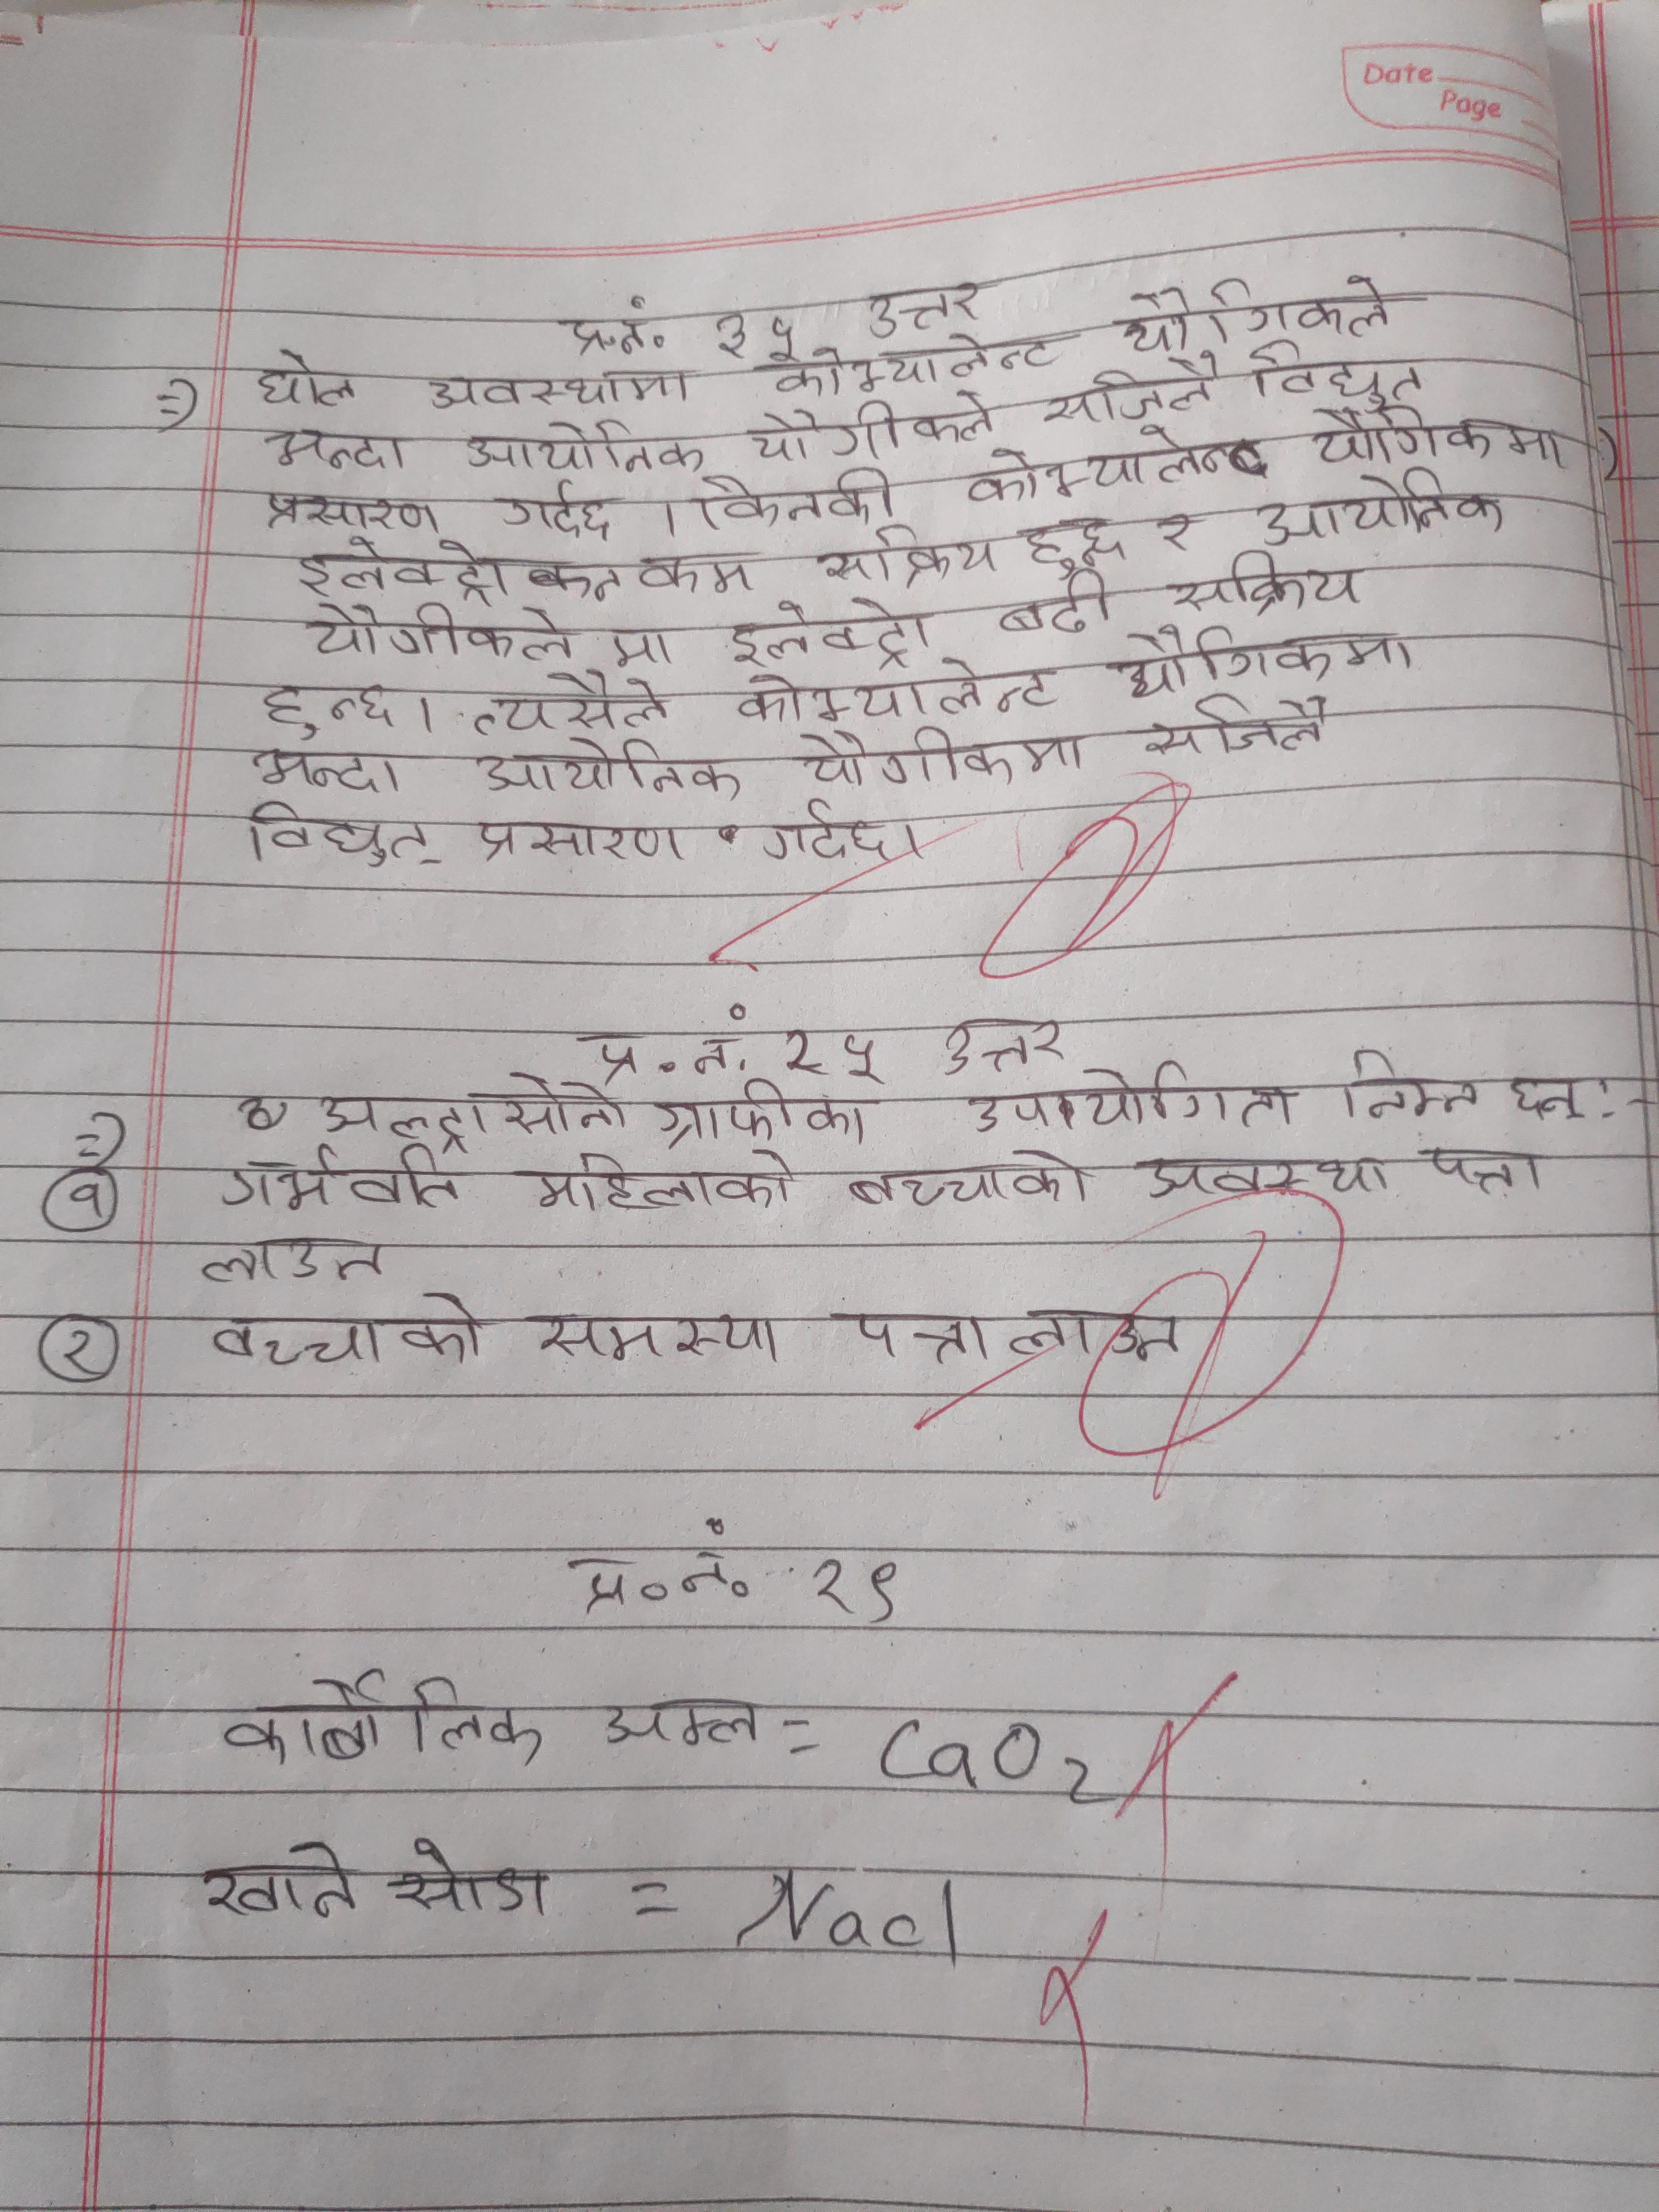text: (218, 1669, 552, 1773), (310, 1068, 634, 1153), (202, 1291, 497, 1381), (955, 421, 1274, 503), (1112, 270, 1417, 352), (1305, 390, 1568, 479), (953, 1064, 1305, 1130), (1105, 622, 1422, 695), (730, 657, 1080, 721), (291, 536, 622, 601), (284, 597, 586, 665), (774, 721, 1089, 786), (523, 1148, 807, 1217), (469, 737, 749, 806), (218, 1148, 465, 1226), (563, 1514, 758, 1611), (739, 392, 1000, 463), (1249, 474, 1518, 542), (453, 409, 708, 481), (535, 1299, 782, 1369), (186, 1832, 368, 1926), (762, 340, 1054, 395), (655, 1076, 871, 1151), (383, 1832, 561, 1923), (464, 665, 681, 738), (727, 592, 934, 669), (1131, 1151, 1405, 1209), (465, 810, 683, 878), (1171, 540, 1363, 617), (240, 805, 448, 874), (847, 1148, 1089, 1207), (199, 1221, 394, 1292), (687, 465, 904, 526), (1143, 690, 1328, 761), (418, 371, 708, 416), (1333, 1043, 1483, 1129), (1246, 336, 1432, 404), (1033, 357, 1213, 427), (1012, 1298, 1199, 1360), (596, 1686, 772, 1752), (810, 528, 1006, 587), (256, 479, 439, 542), (842, 1305, 1004, 1374), (235, 742, 415, 799), (587, 1012, 739, 1080), (758, 796, 897, 869), (931, 1014, 1082, 1076), (488, 474, 620, 545), (260, 413, 413, 474), (993, 571, 1115, 646), (254, 678, 392, 738), (1419, 1136, 1551, 1198), (246, 347, 364, 413), (558, 293, 671, 361), (1021, 505, 1126, 578), (633, 543, 765, 601), (864, 284, 993, 341), (1495, 1071, 1600, 1136), (596, 617, 683, 669), (1150, 500, 1209, 552)
